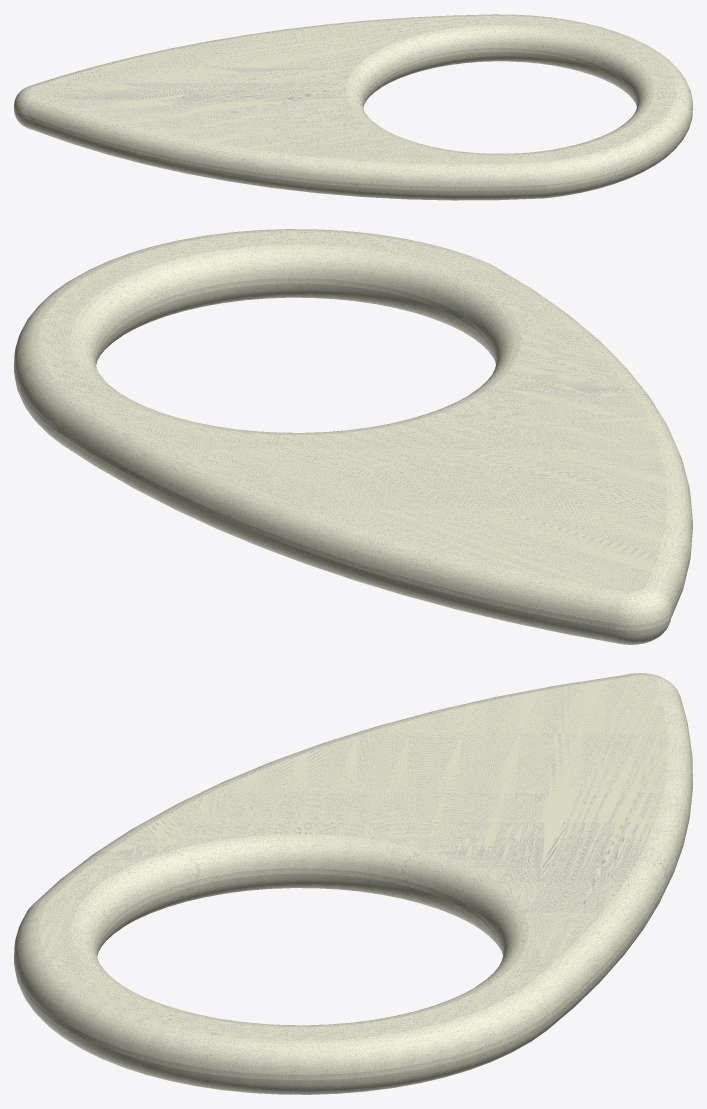
File: original-8.obj
3 views of the same model, one above another, from view 1: azimuth 30°, elevation 25°; view 2: azimuth 150°, elevation 25°; view 3: azimuth 270°, elevation 25° (orthographic). The views are drawn at different scales.
Parts seen in each view (by area): view 1: Component_17_2/Component_17_1_2/mesh7/mesh7-geometry#mesh7-geome; view 2: Component_17_2/Component_17_1_2/mesh7/mesh7-geometry#mesh7-geome; view 3: Component_17_2/Component_17_1_2/mesh7/mesh7-geometry#mesh7-geome.
Part boxes in pixels (x1,y1,x2,y2): Component_17_2/Component_17_1_2/mesh7/mesh7-geometry#mesh7-geome: [14, 14, 692, 200]; Component_17_2/Component_17_1_2/mesh7/mesh7-geometry#mesh7-geome: [14, 229, 692, 644]; Component_17_2/Component_17_1_2/mesh7/mesh7-geometry#mesh7-geome: [14, 673, 692, 1094].
Bounding box in the file's own units: 0.6441 × 0.0399 × 0.4773.
